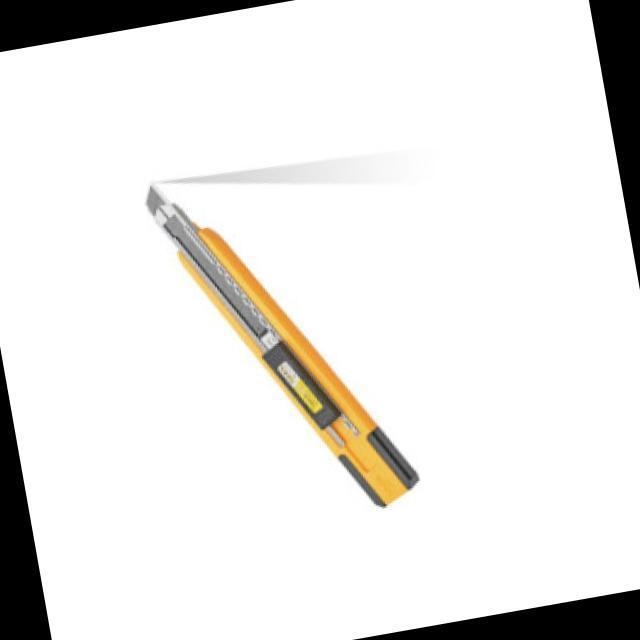cutter: (134, 142, 448, 554)
